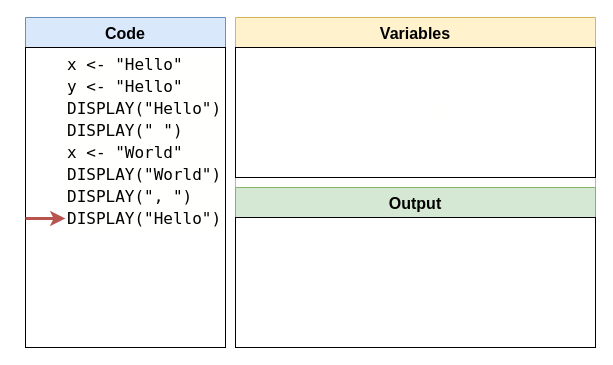
The diagram is 613 pixels wide and 365 high, and some of its shapes have lost their labels. The shapes that lost their labels are listed below. From the top down, each one's centre as x and y in pixels, then its label:
point 415,112: x = "World" y = "Hello"
point 415,282: Hello World, Hello
